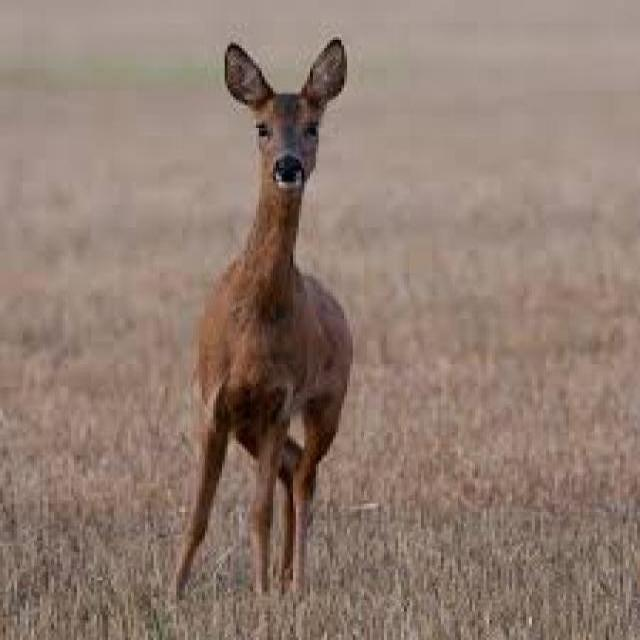deer: (172, 37, 351, 606)
